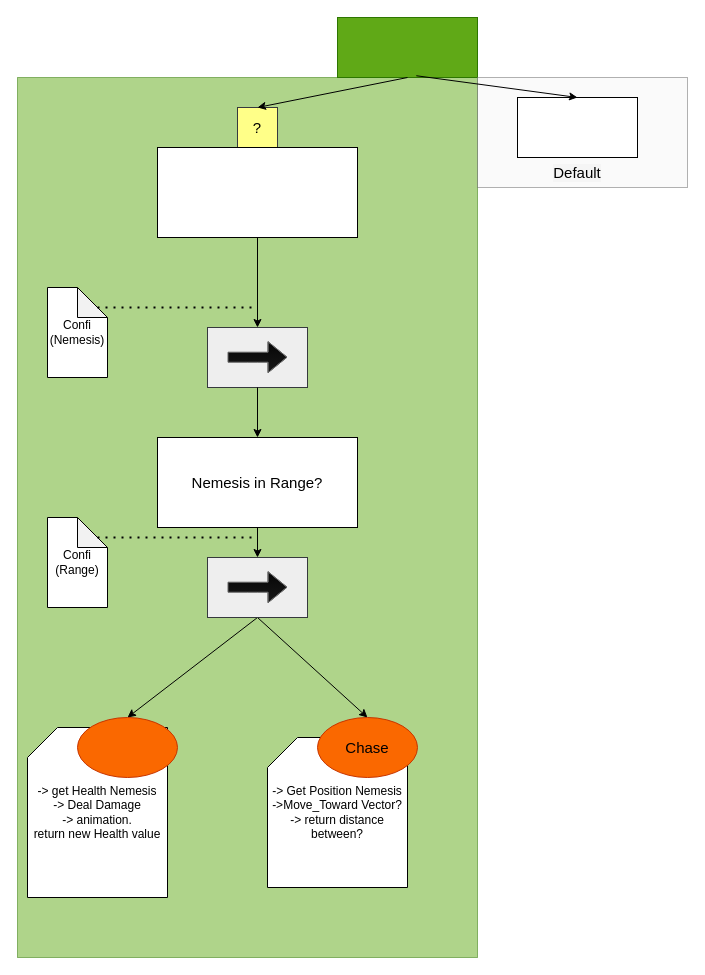
Some shapes in this 705 by 975 pixel diagram are drawn without their labels. Each missing label, with the centre of its shape:
"Attack" belongs at (x=127, y=747).
"Chaser (Wolf)" belongs at (x=407, y=47).
"Nemesis Visibile?" belongs at (x=257, y=192).
"Stray" belongs at (x=577, y=127).
